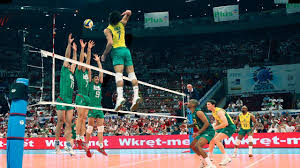ball: (83, 18, 93, 28)
